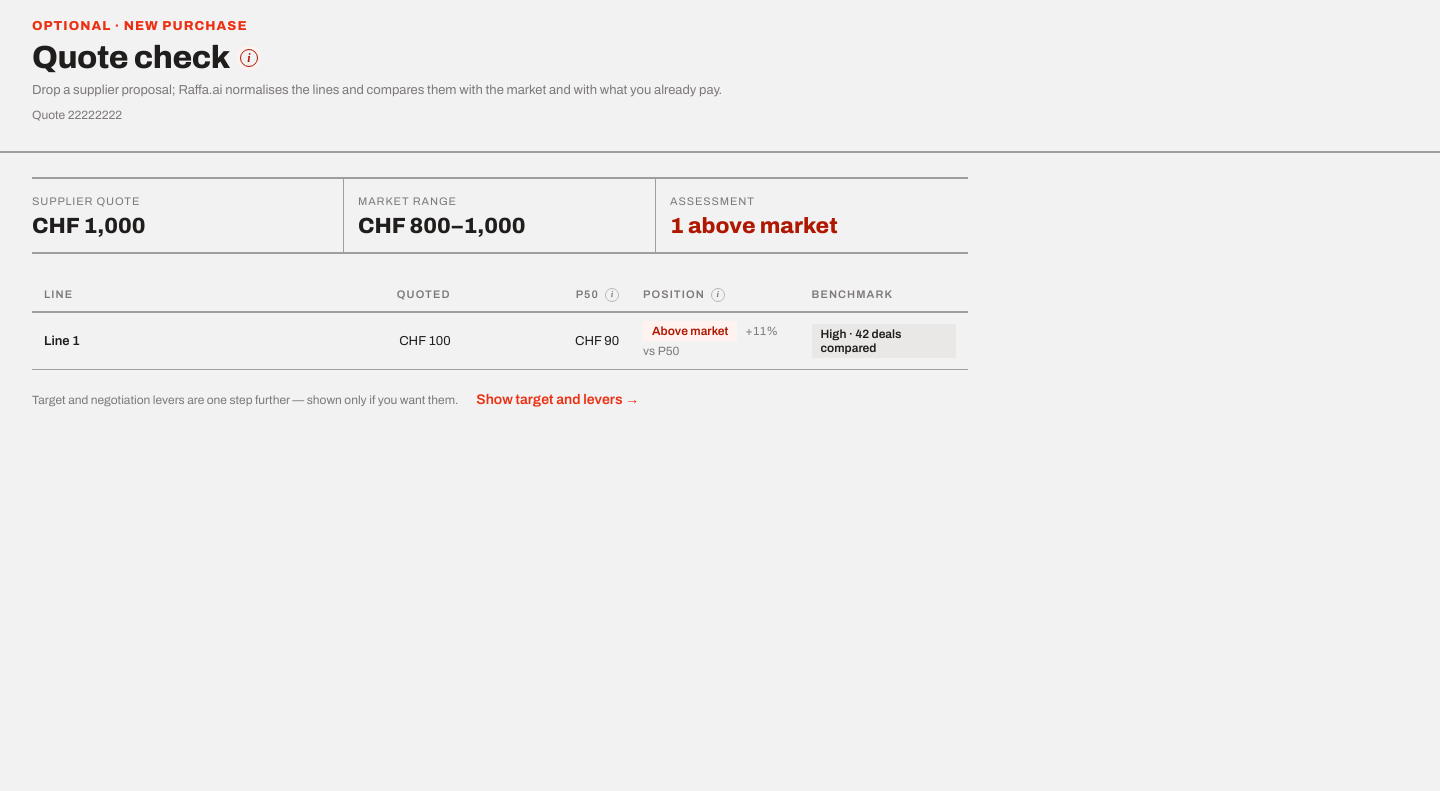
Test case: QuoteCheckRoute (V2, ADR-024 / screens-v2.md #9) › once loaded › the footer reveals the Target step, whose own continue reveals Negotiation; the toggle hides both again
Check: the text "Target and negotiation levers are one step further — shown only if you want them." is shown, box [32, 393, 458, 407]
Click the button "Show target and levers →" at (558, 401), box [470, 382, 645, 419]
(page scrolled)
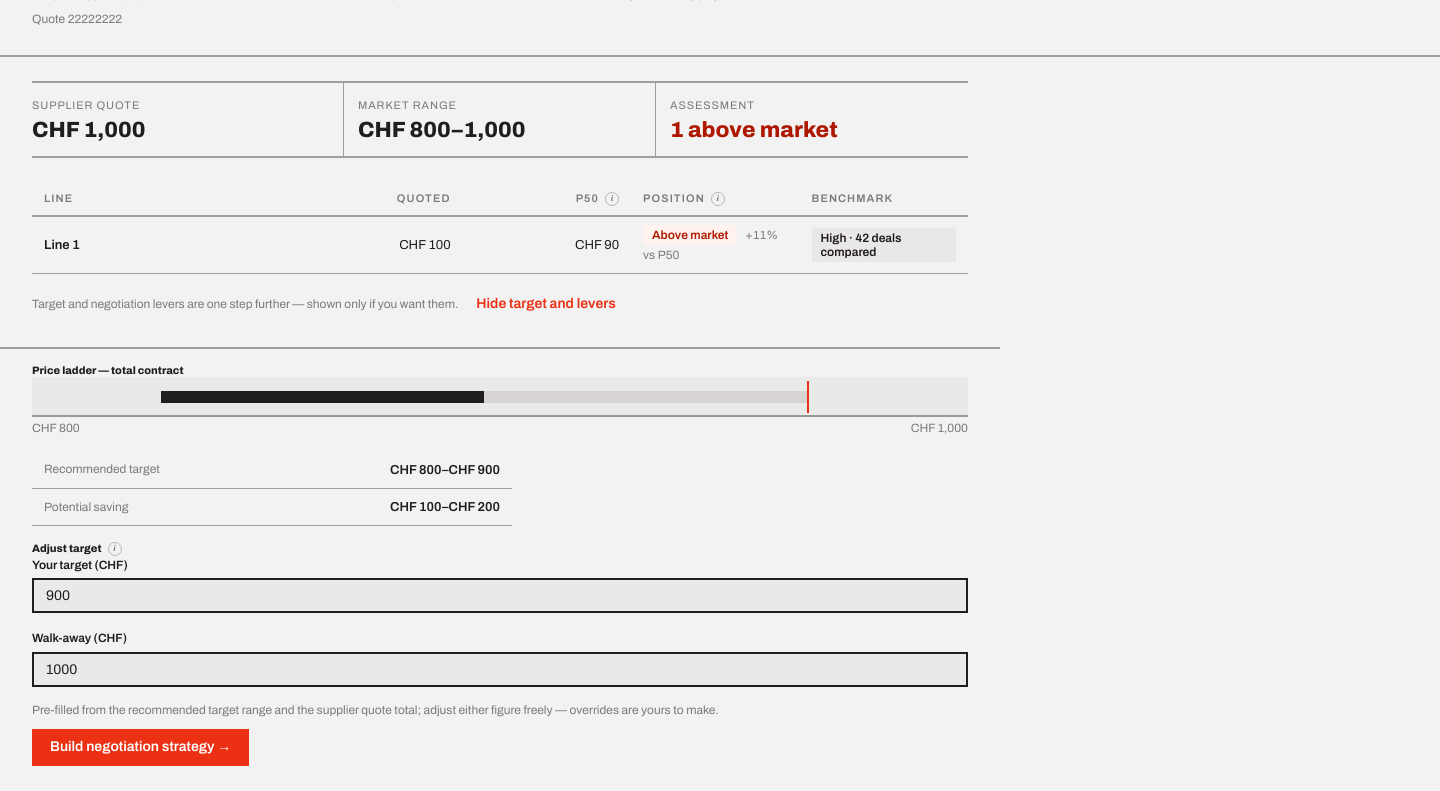
Check: the text "Record the outcome" is not shown
Check: the heading "Adjust target" is shown, box [32, 543, 102, 555]
Check: the button "Hide target and levers" is expanded, box [470, 286, 622, 323]
Click the button "Build negotiation strategy →" at (141, 748), box [32, 729, 249, 766]
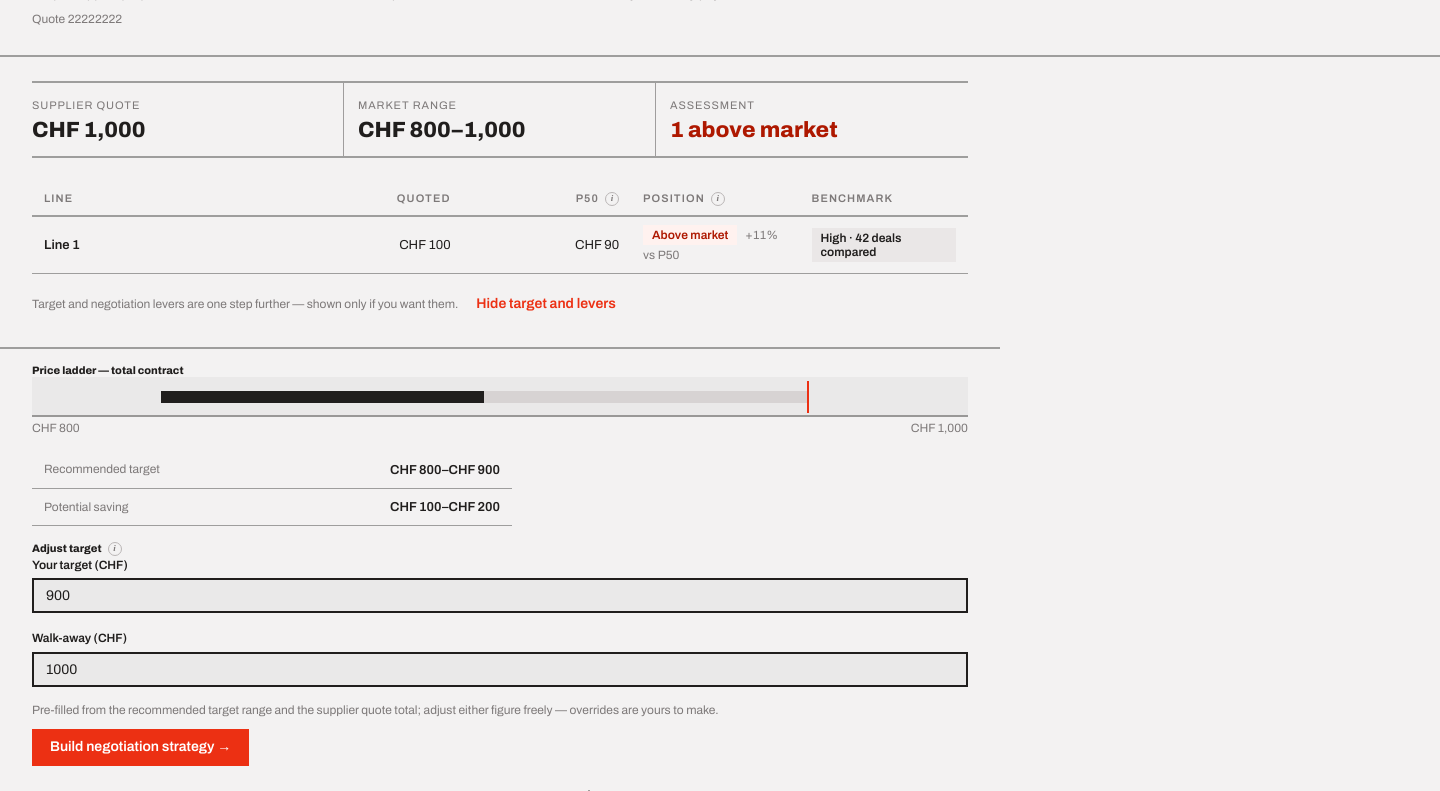
Click the button "Hide target and levers" at (546, 305), box [470, 286, 622, 323]
(page scrolled)
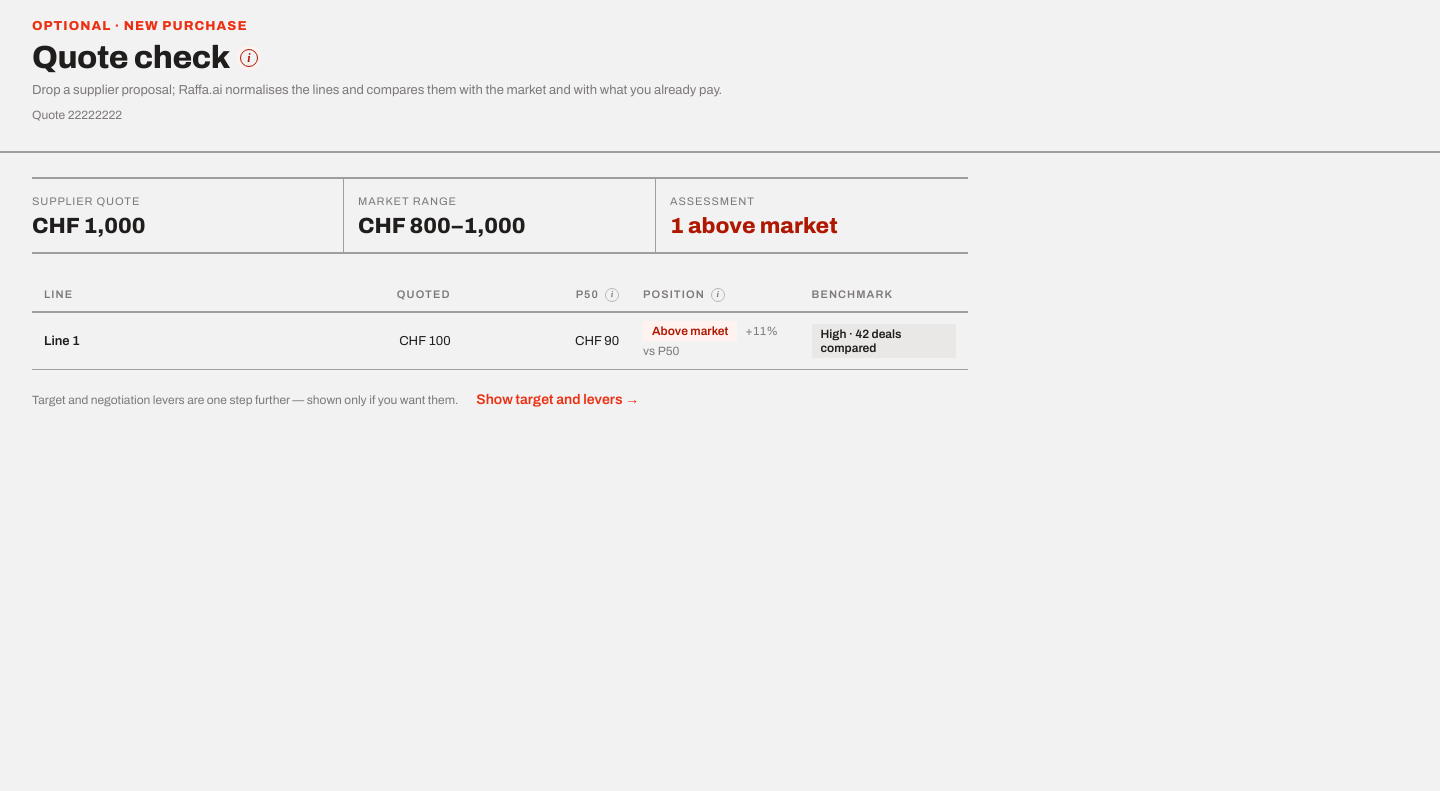
Check: the heading "Adjust target" is gone
